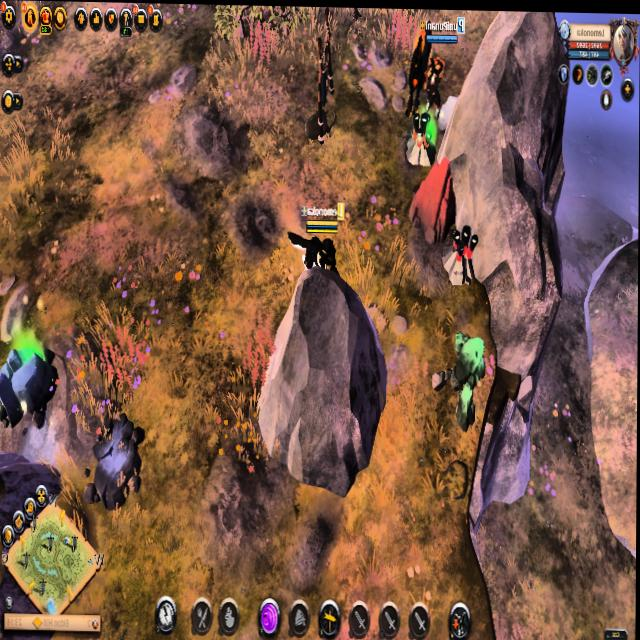ore tier 5: (442, 221, 481, 285), (405, 108, 439, 170)
rock tier 4: (0, 336, 61, 435)
rock tier 5: (408, 155, 458, 250)
